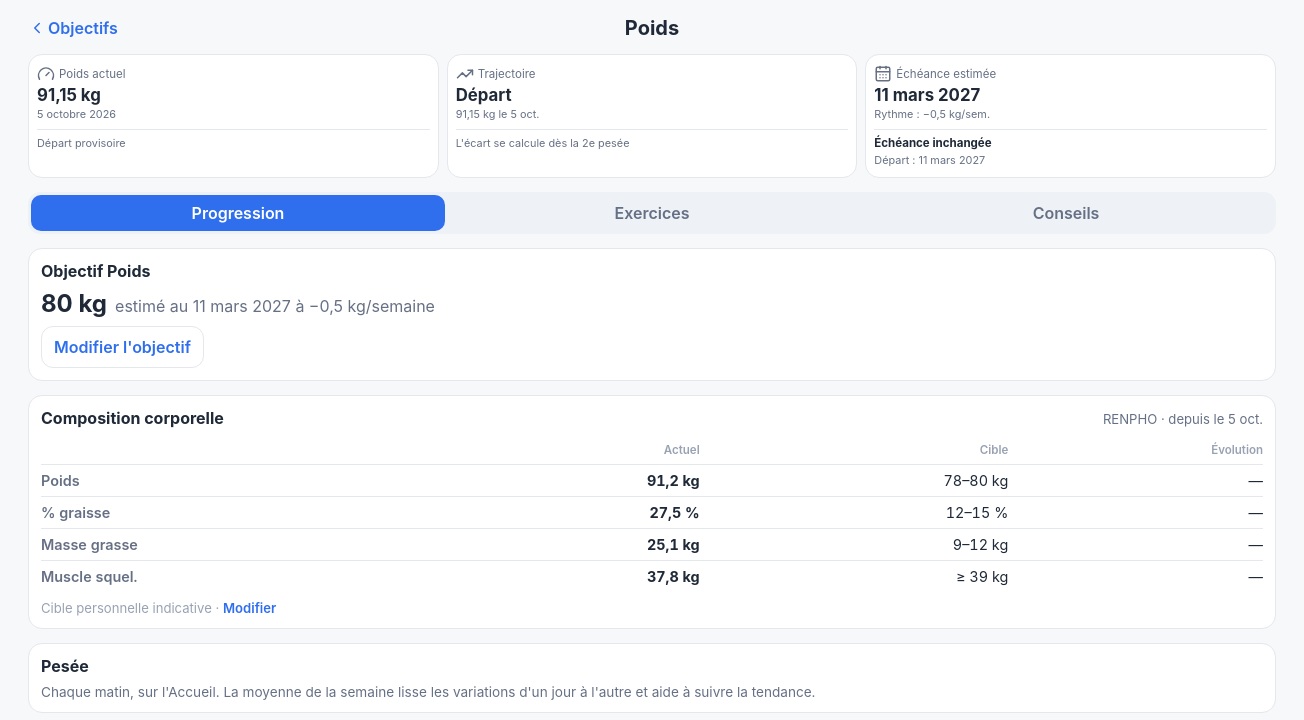
Test: bloc « Composition corporelle » de l'objectif Poids › modifier la cible : valeurs préremplies, refus d'un minimum au-dessus du maximum, enregistrement, l'objectif Poids ne bouge pas ; persistant après redémarrage
The width and height of the screenshot is (1304, 720).
Click the link "Modifier" at [250, 608], box [223, 600, 276, 616]
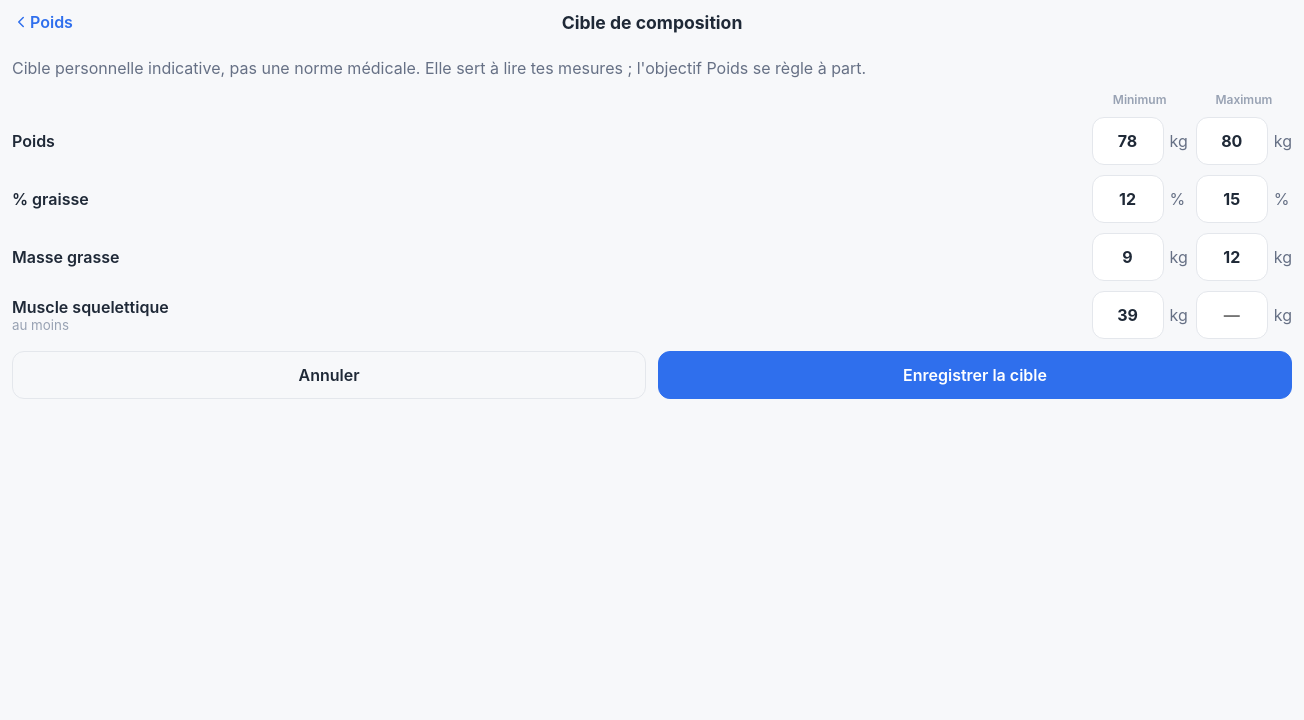
Expected: the heading "Cible de composition" is shown, [562, 12, 742, 32]
Expected: the text "pas une norme médicale" is shown, [12, 58, 866, 78]
Expected: the field named "Poids minimum en kg" holds "78"
Replace the text in the field named "Poids minimum en kg" with "82" at [1128, 141], box [1092, 117, 1164, 165]
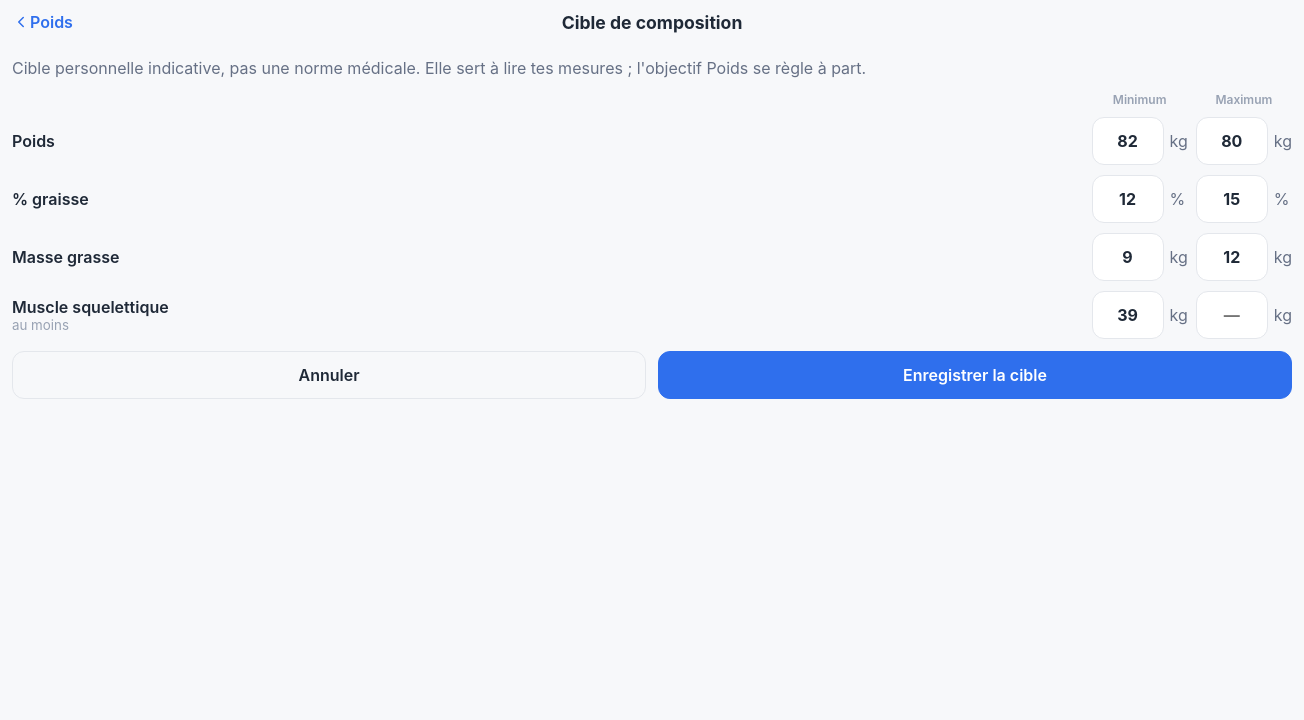
Click the button "Enregistrer la cible" at [975, 375], box [658, 351, 1292, 399]
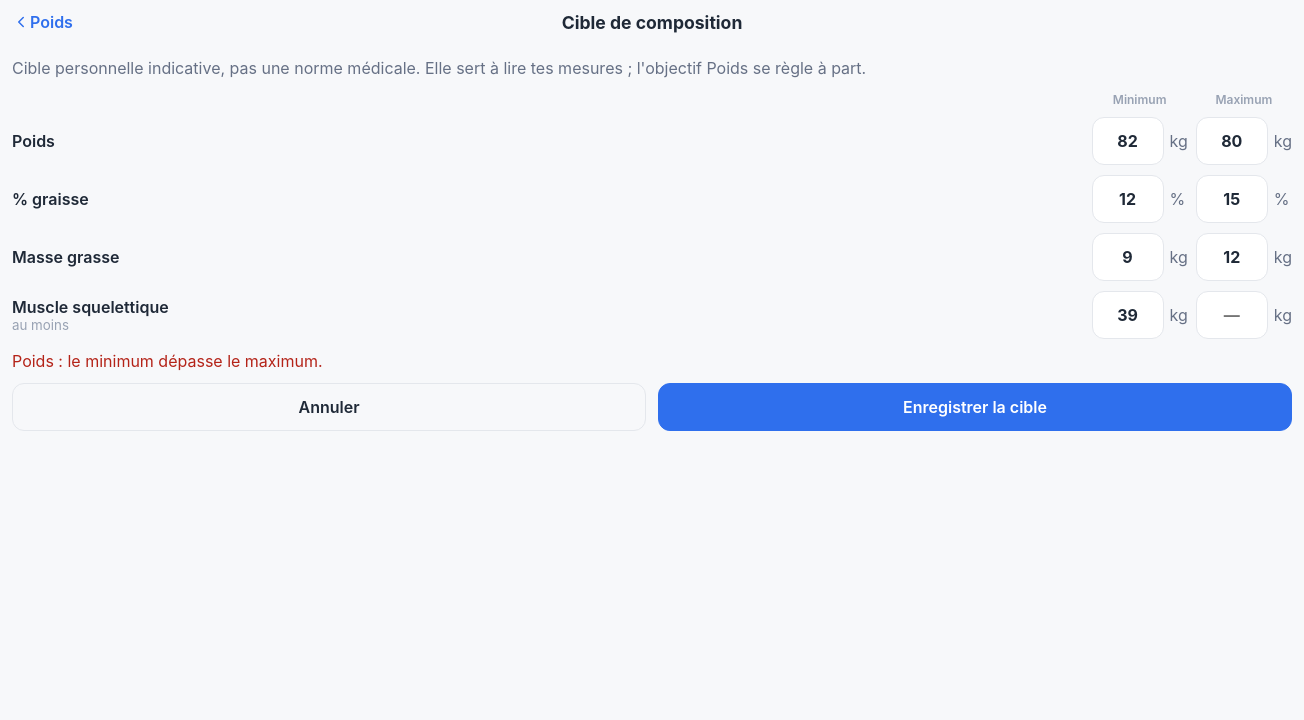
Expected: the message reads "Poids : le minimum dépasse le maximum.", [12, 351, 323, 371]
Replace the text in the field named "Poids minimum en kg" with "76" at [1128, 141], box [1092, 117, 1164, 165]
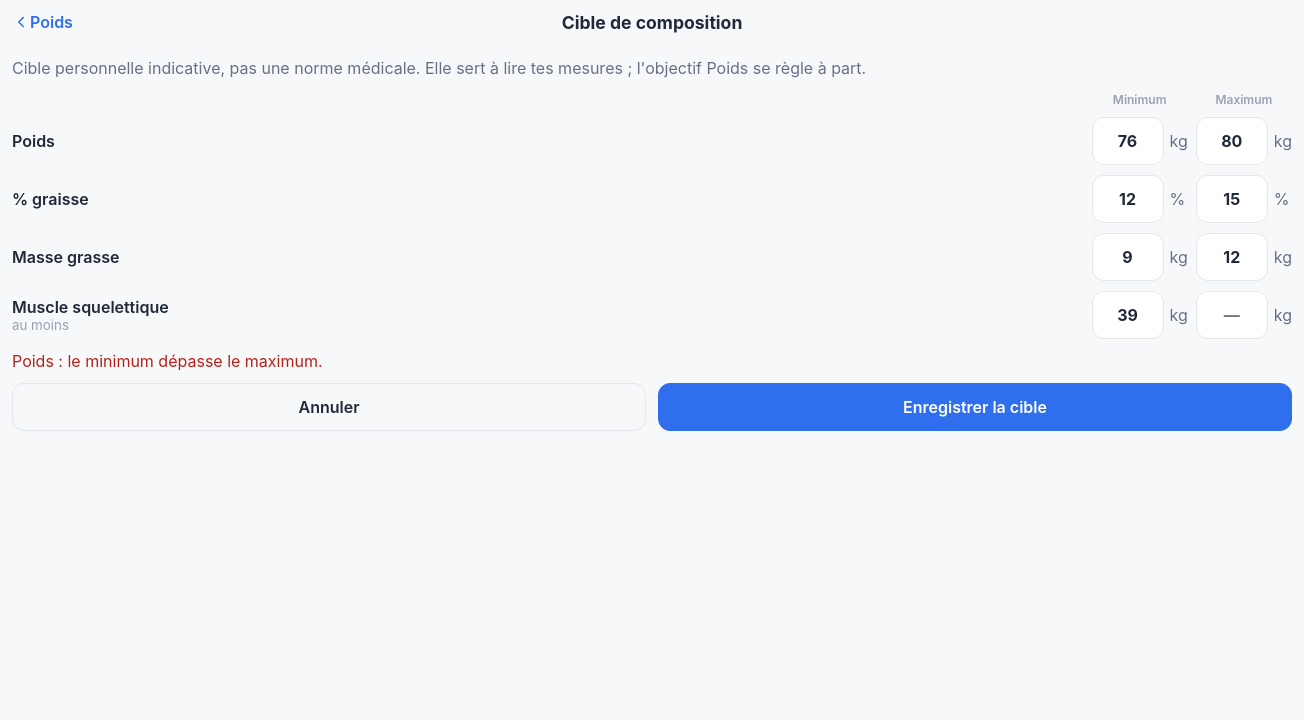
Replace the text in the field named "Poids maximum en kg" with "78,5" at [1232, 141], box [1196, 117, 1268, 165]
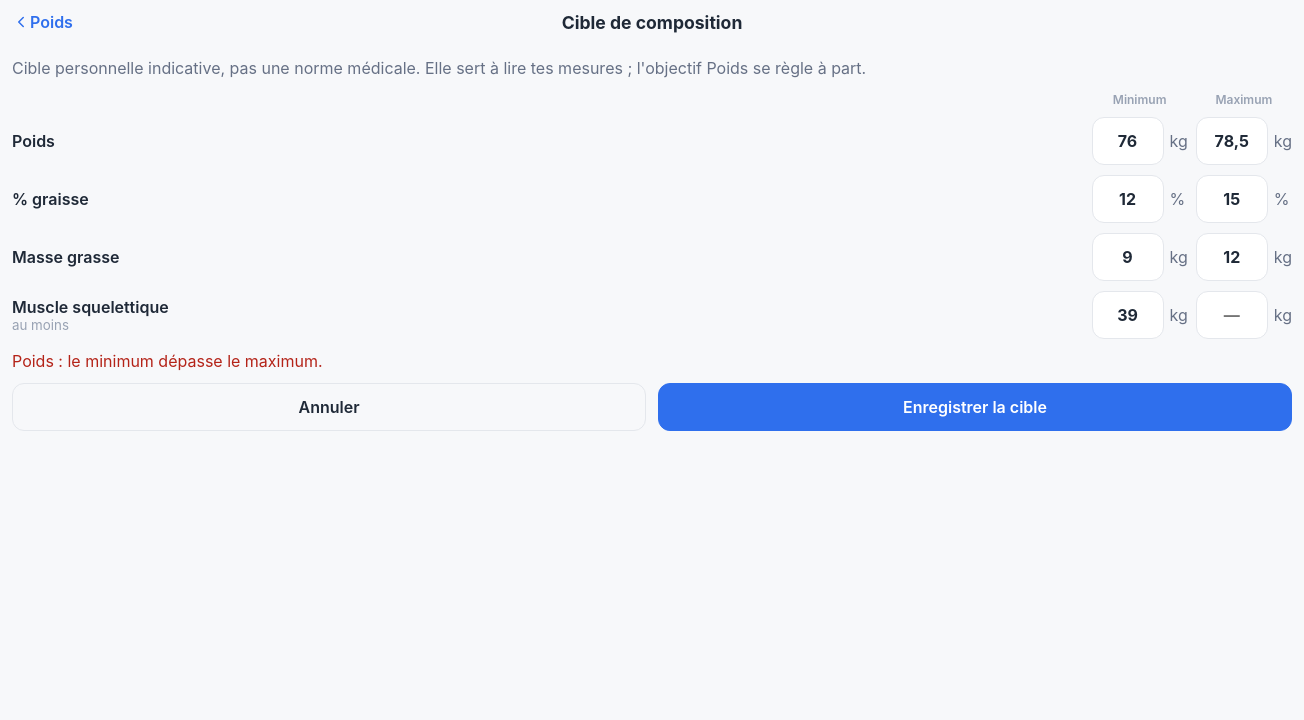
Click the button "Enregistrer la cible" at [975, 407], box [658, 383, 1292, 431]
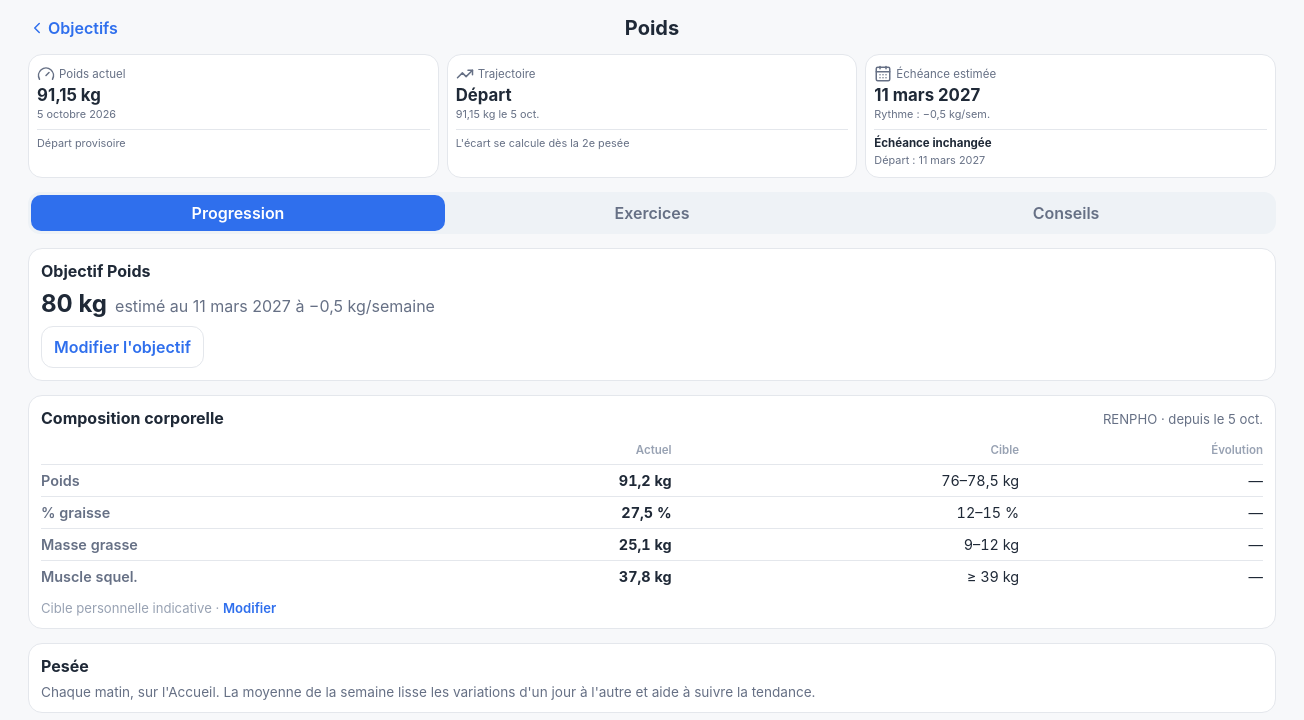
Expected: the cell "76–78,5 kg" is shown, [672, 464, 1019, 496]
